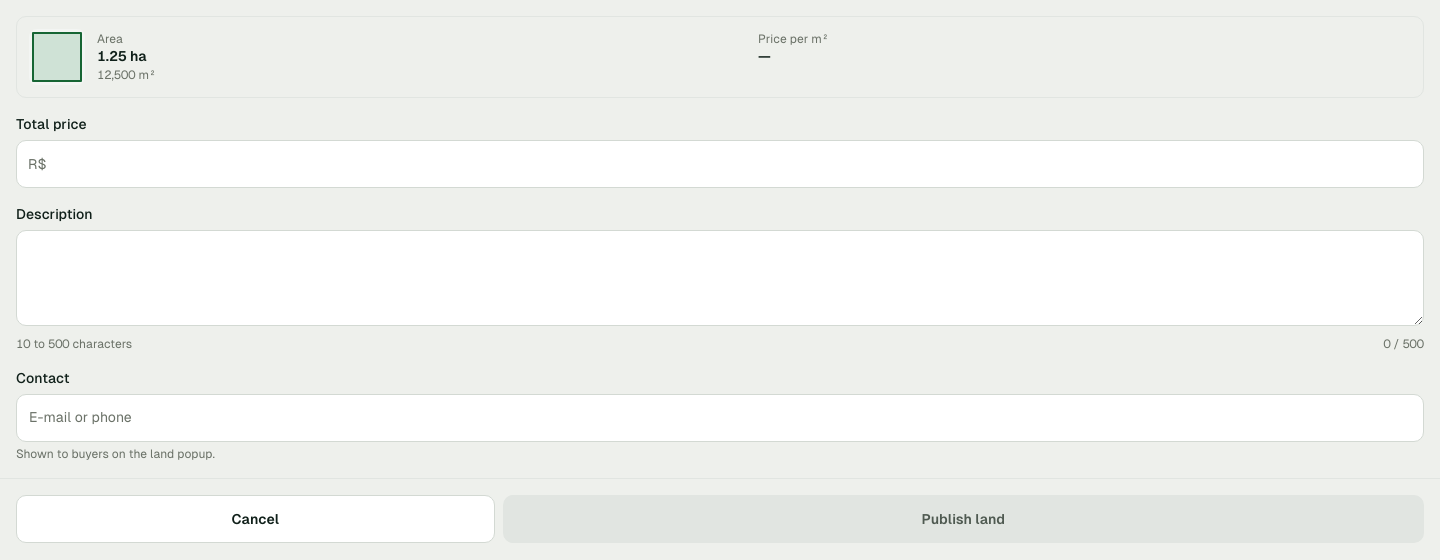
DetailsStep › shows the area preview and live price per m²
Expected: the text "1.25 ha" is shown, [97,48,147,64]
Type "185000" into the field labelled "Total price". click: (720,164)
box: [16,140,1424,188]
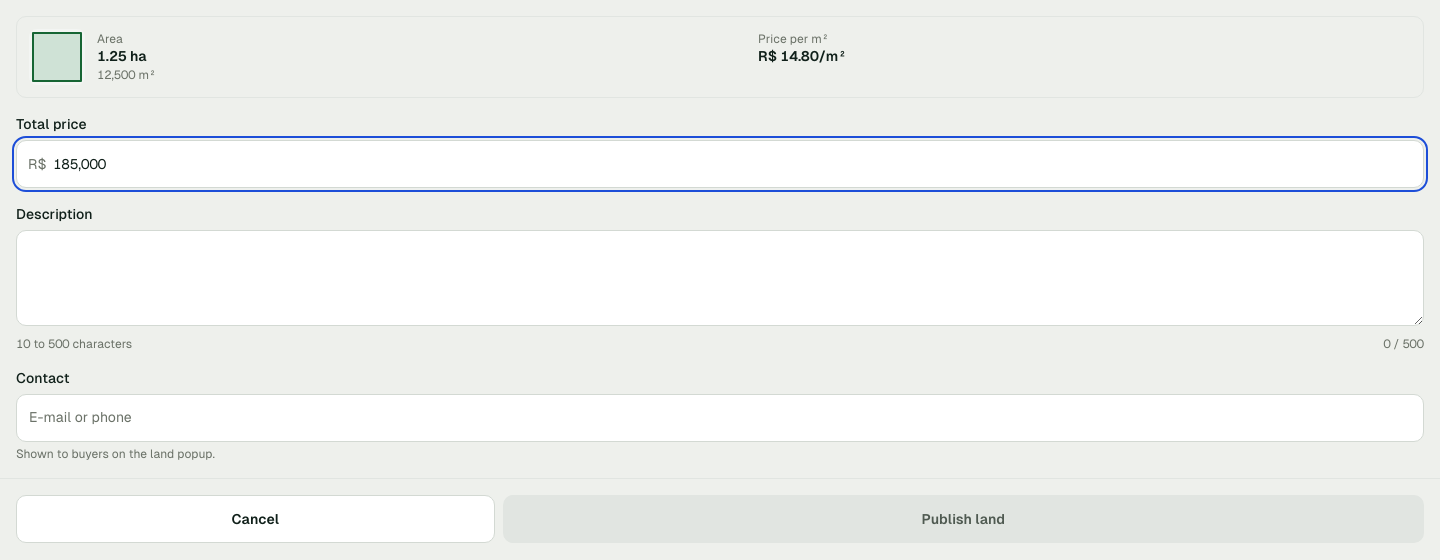
Expected: the text "R$ 14.80/m²" is shown, [758,48,847,64]
